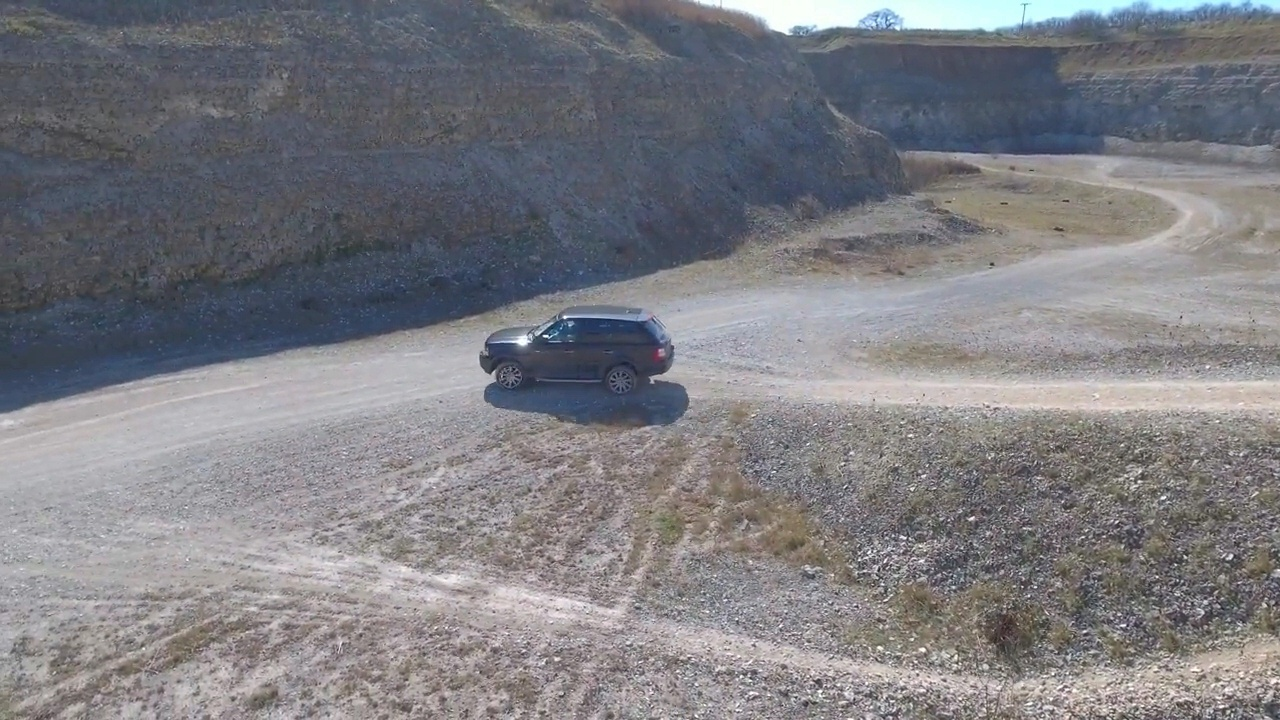araba: (480, 303, 675, 397)
